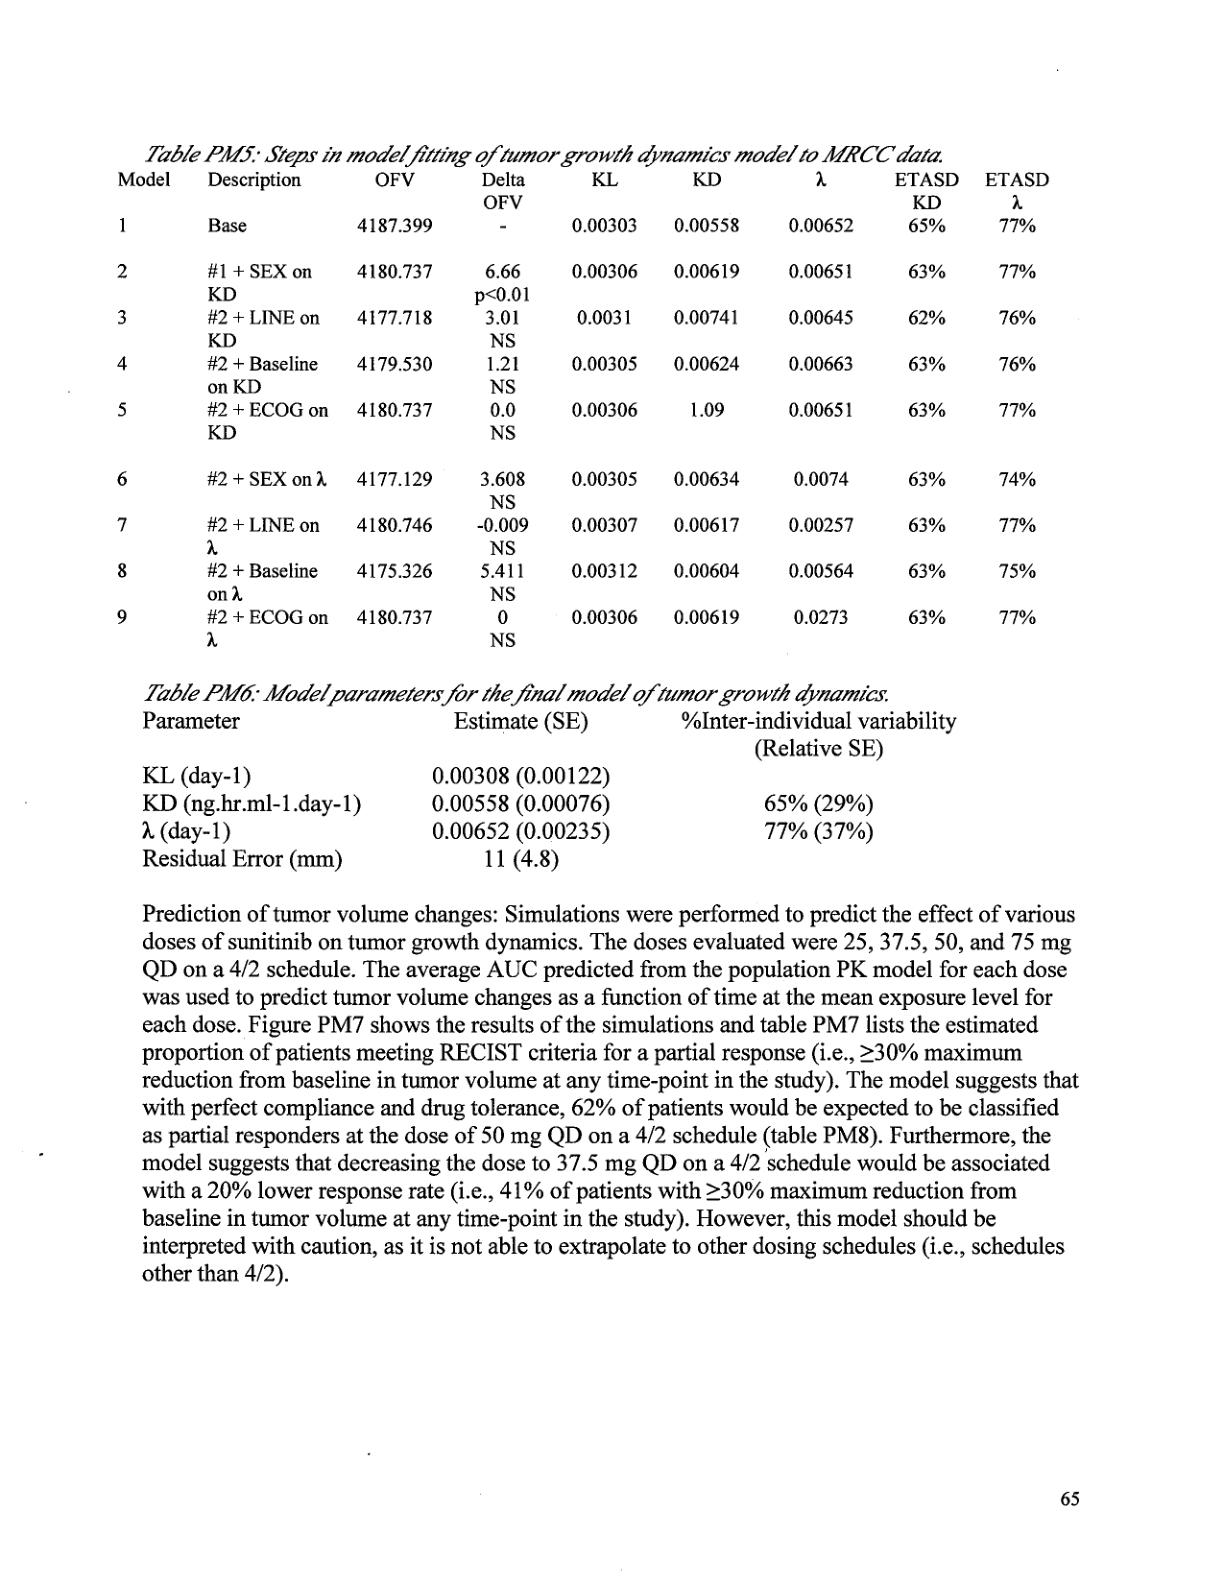nolines: (110, 166, 1052, 651), (137, 708, 961, 872)
